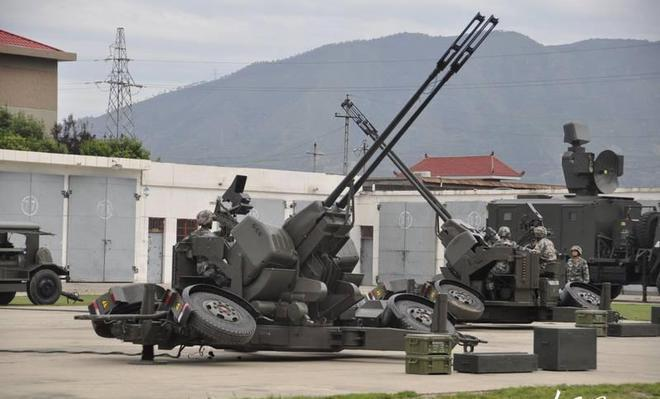MIL_SPG: (76, 14, 496, 360), (389, 152, 598, 323)
